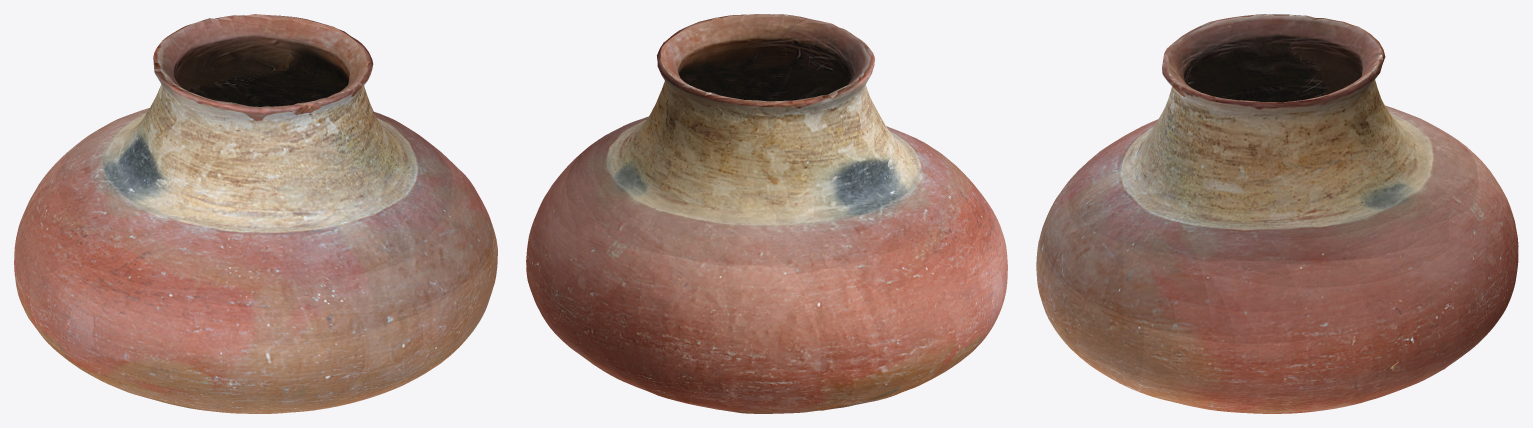
The model's file is vase_wide.glb.
The picture shows the model from 3 angles, left to right: view 1: azimuth 30°, elevation 25°; view 2: azimuth 150°, elevation 25°; view 3: azimuth 270°, elevation 25°; orthographic projection.
Parts seen in each view (by area): view 1: default_BIEN28_1001_0; view 2: default_BIEN28_1001_0; view 3: default_BIEN28_1001_0.
Part boxes in pixels (x1=…): default_BIEN28_1001_0: x1=14, y1=14, x2=497, y2=413; default_BIEN28_1001_0: x1=526, y1=14, x2=1007, y2=413; default_BIEN28_1001_0: x1=1036, y1=14, x2=1518, y2=413.
Bounding box in the file's own units: 21.77 × 16.57 × 21.43.
1 material, 1 textured.
